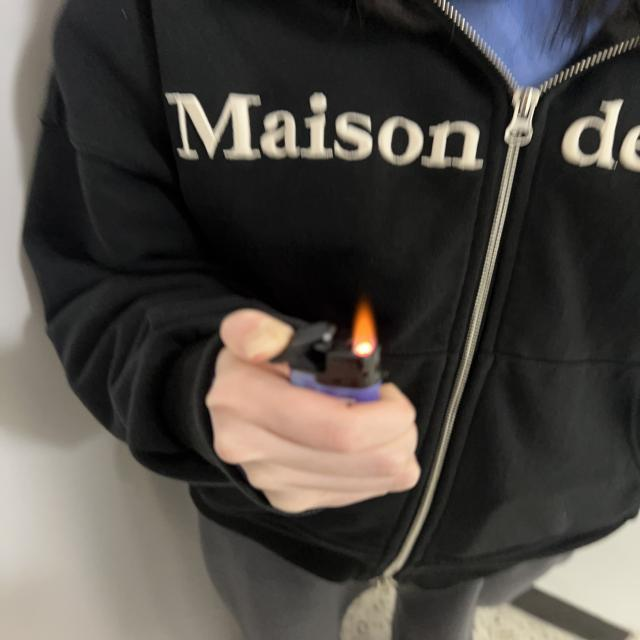fire: (353, 298, 377, 358)
